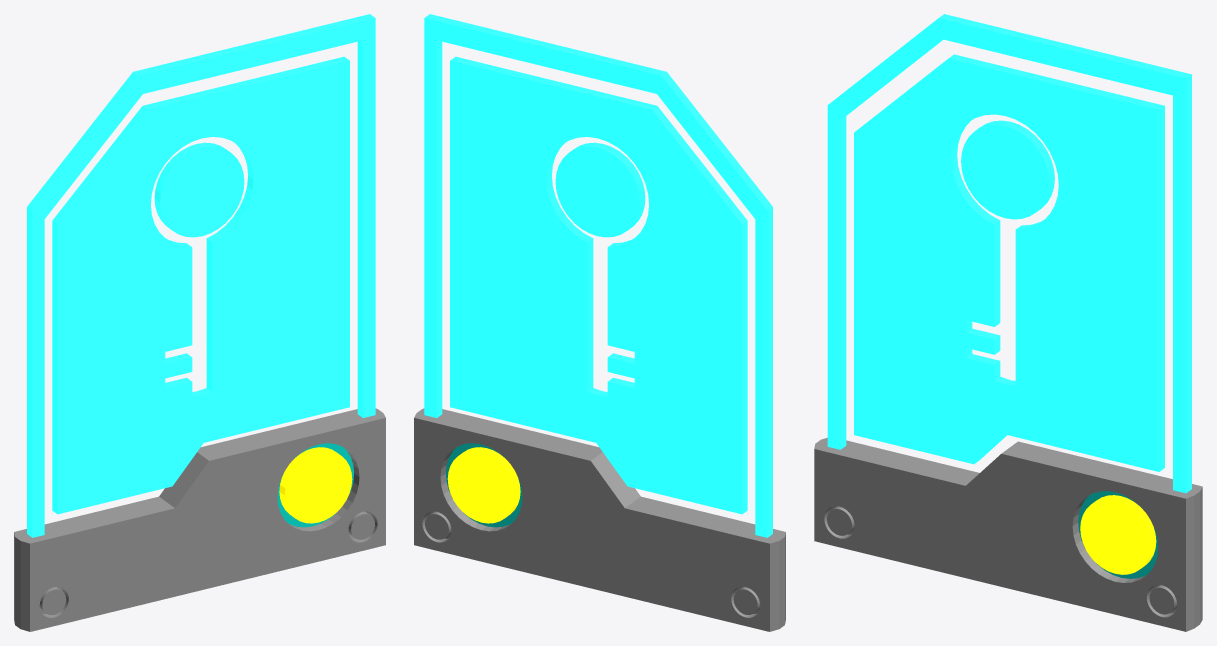
Rendered from ExitKey.fbx.
3 renders of one model, left to right at view 1: azimuth 30°, elevation 25°; view 2: azimuth 150°, elevation 25°; view 3: azimuth 330°, elevation 25°, orthographic. The views are drawn at different scales.
Parts seen in each view (by area): view 1: KeyA.002; view 2: KeyA.002; view 3: KeyA.002.
Boxes of the visible parts, x1,y1,x2,y2 form: KeyA.002: [14, 14, 385, 631]; KeyA.002: [414, 14, 785, 631]; KeyA.002: [814, 14, 1202, 631].
Bounding box in the file's own units: 291 × 405 × 22.3.
